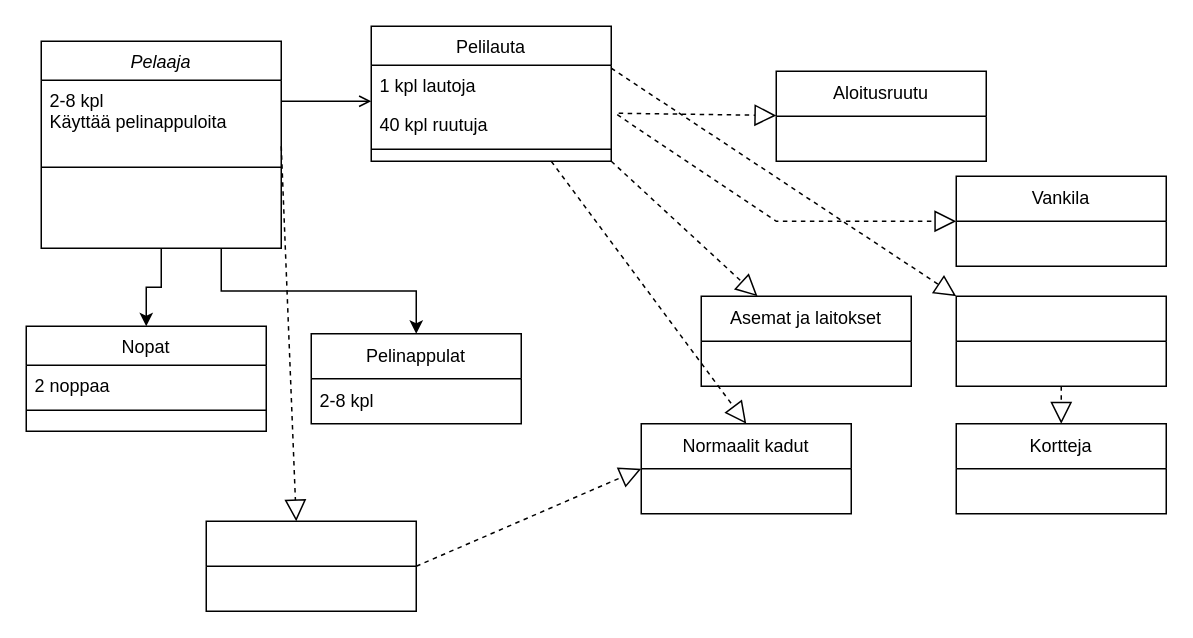
Some shapes in this 1193 by 638 pixel diagram are drawn without their labels. Here are the shapes that lost their labels. From the top down, the centre of each, then its label:
At [1060,340]: "Sattuma ja yhteismaa".
At [310,565]: "Rahaa".
